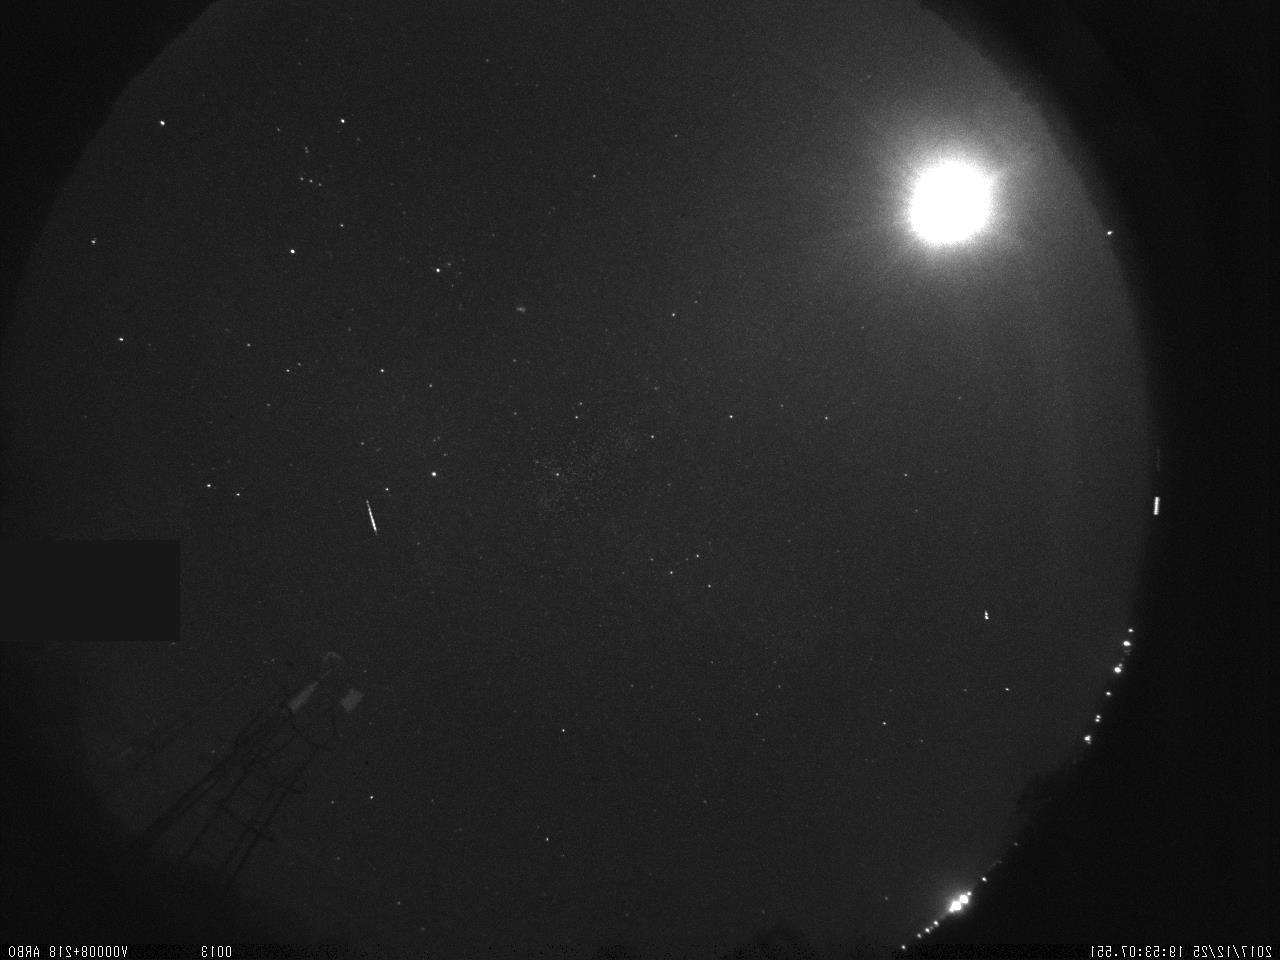meteor: (352, 494, 382, 537)
